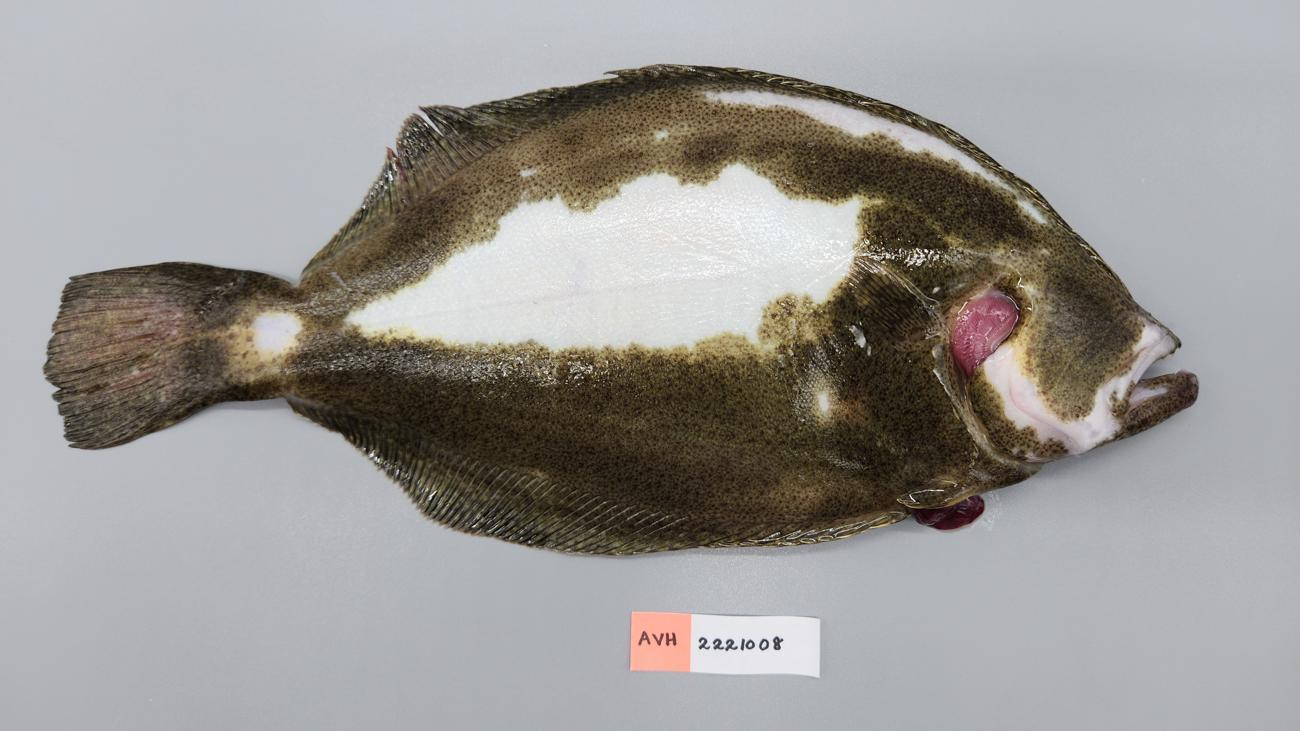VIFCH: (41, 265, 233, 412)
VIOUY: (48, 65, 1199, 554)
